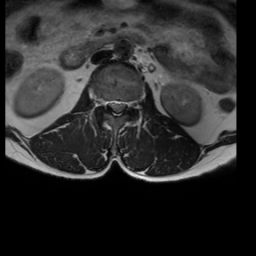CCS_stenosis: (113, 93, 119, 122)
LFS_normal: (127, 94, 136, 115)
LLS_stenosis: (119, 93, 127, 115)
RFS_normal: (99, 91, 106, 114)
RLS_stenosis: (106, 94, 113, 114)
